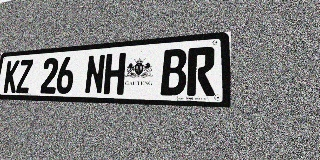2: (40, 57, 59, 94)
6: (56, 56, 75, 94)
B: (160, 48, 187, 96)
H: (103, 53, 126, 95)
K: (3, 60, 20, 93)
N: (84, 54, 106, 94)
R: (187, 46, 215, 96)
Z: (16, 59, 33, 93)
